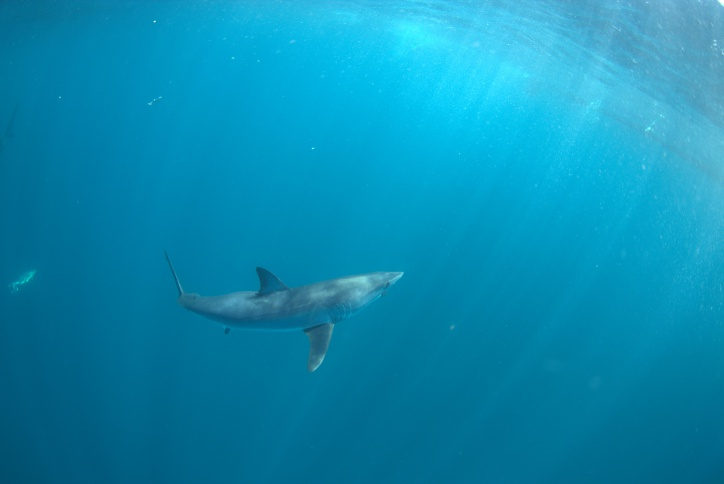Mako: (145, 238, 422, 379)
